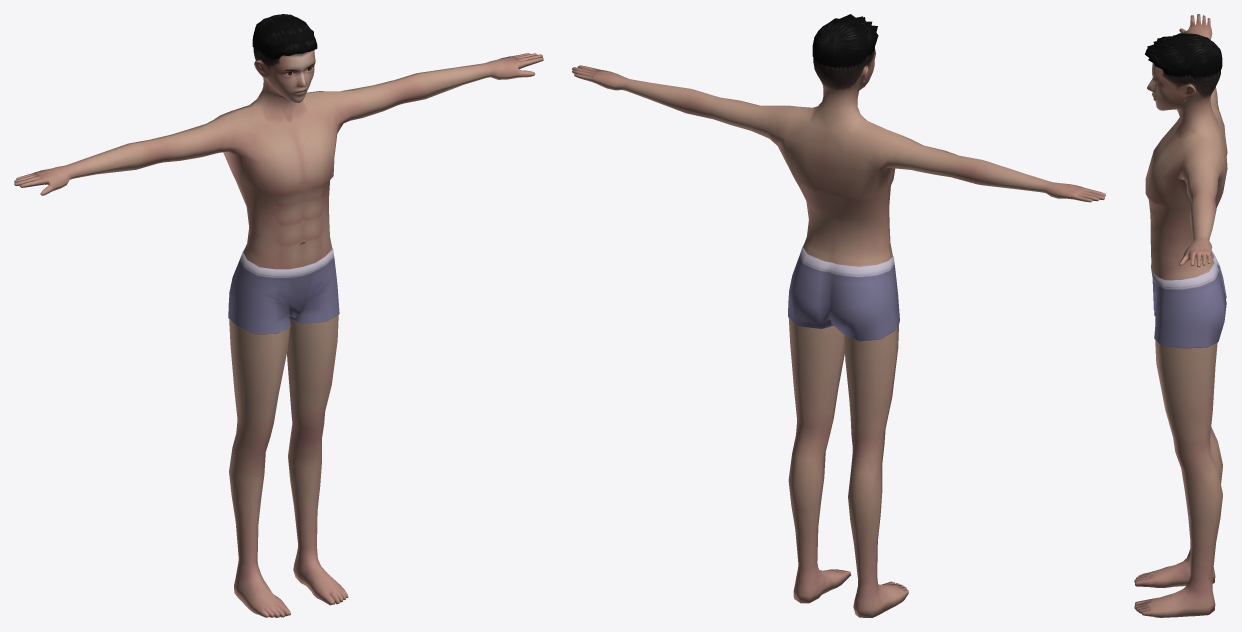
The model's file is male_lowpoly_basemesh.glb.
3 renders of one model, left to right at view 1: azimuth 30°, elevation 25°; view 2: azimuth 150°, elevation 25°; view 3: azimuth 270°, elevation 25°, orthographic. The views are drawn at different scales.
Visible parts, largest first — view 1: body_0, body.001_1; view 2: body_0, body.001_1; view 3: body_0, body.001_1.
Boxes of the visible parts, x1=… form: body_0: x1=14, y1=48, x2=543, y2=617; body.001_1: x1=252, y1=14, x2=317, y2=59; body_0: x1=572, y1=48, x2=1105, y2=617; body.001_1: x1=812, y1=14, x2=878, y2=69; body_0: x1=1134, y1=14, x2=1227, y2=617; body.001_1: x1=1145, y1=33, x2=1222, y2=79.
Size of the model in its own units: 1.7 by 1.77 by 0.2654.
Materials: 4 (4 with a texture image).
